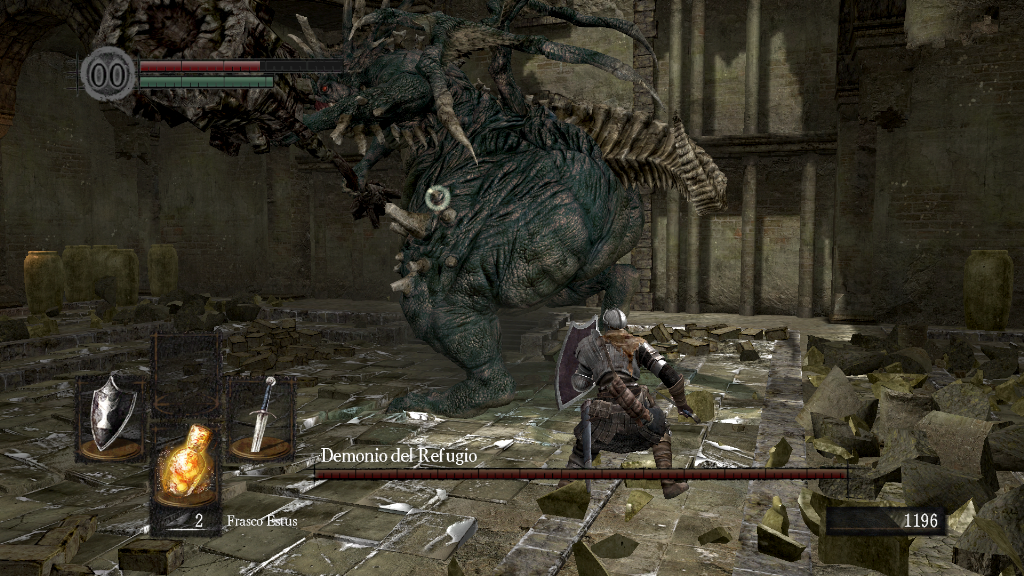asylumDemon: (79, 1, 733, 417)
bossHP: (314, 469, 847, 479)
health: (138, 58, 343, 71)
humanity: (80, 45, 136, 102)
player: (554, 306, 696, 500)
souls: (825, 506, 945, 536)
stamina: (138, 74, 274, 88)
